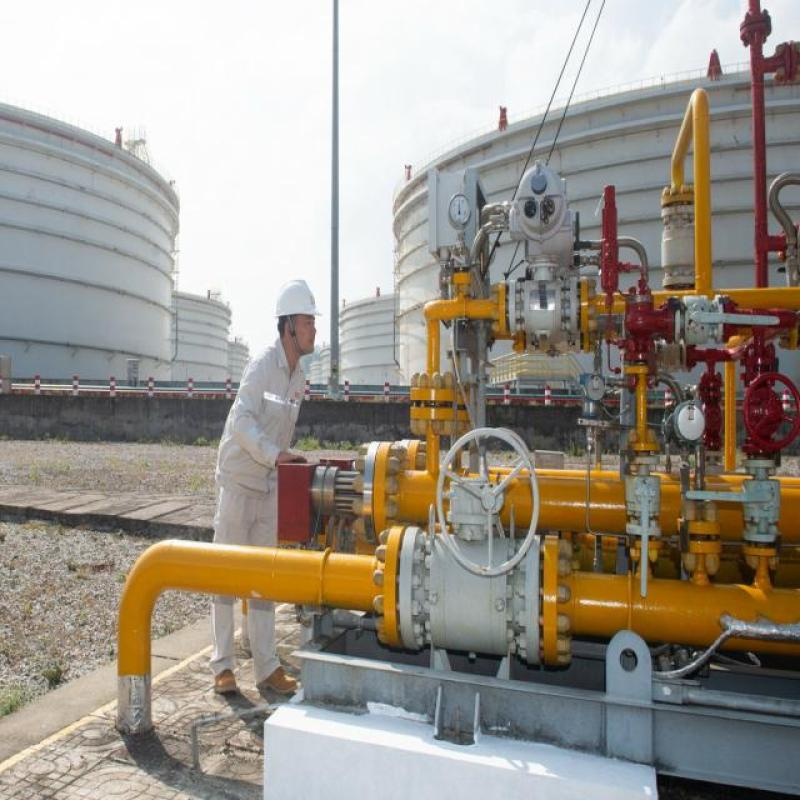Healthy: (106, 135, 800, 731)
